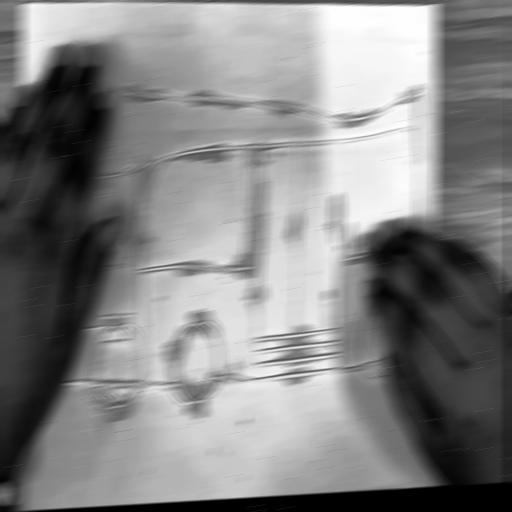bus: (30, 76, 433, 415)
top_left: (431, 1, 440, 12)
top_right: (15, 0, 29, 11)
